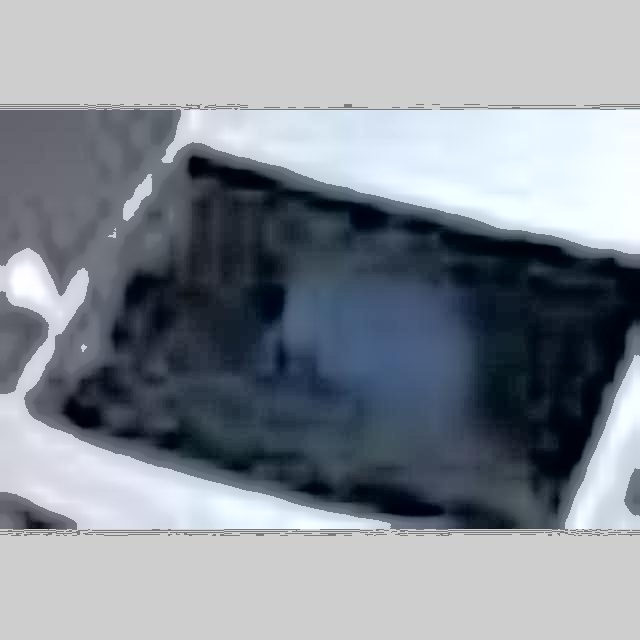tidak-pakai: (210, 198, 474, 463)
